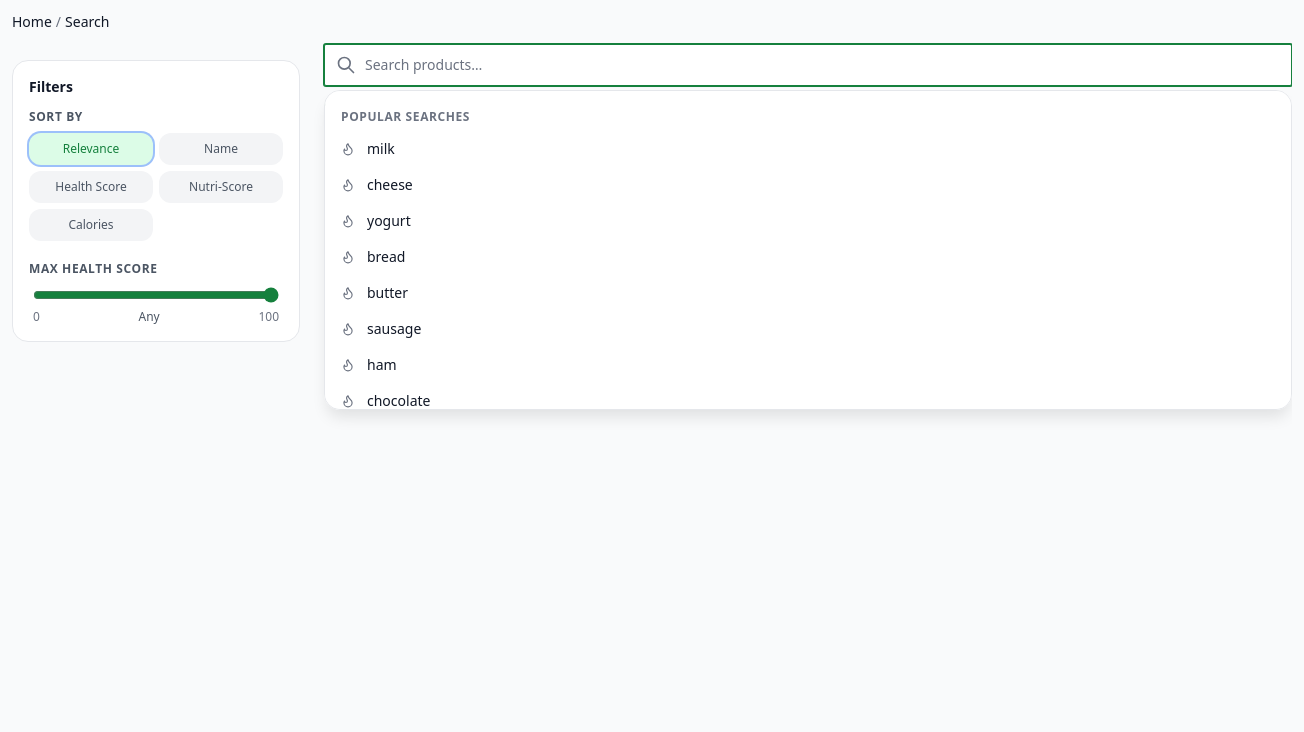
Test: SearchPage › renders pagination when multiple pages
Type "test" into the dropdown with placeholder "Search products…" at (808, 65), box [324,44,1292,86]
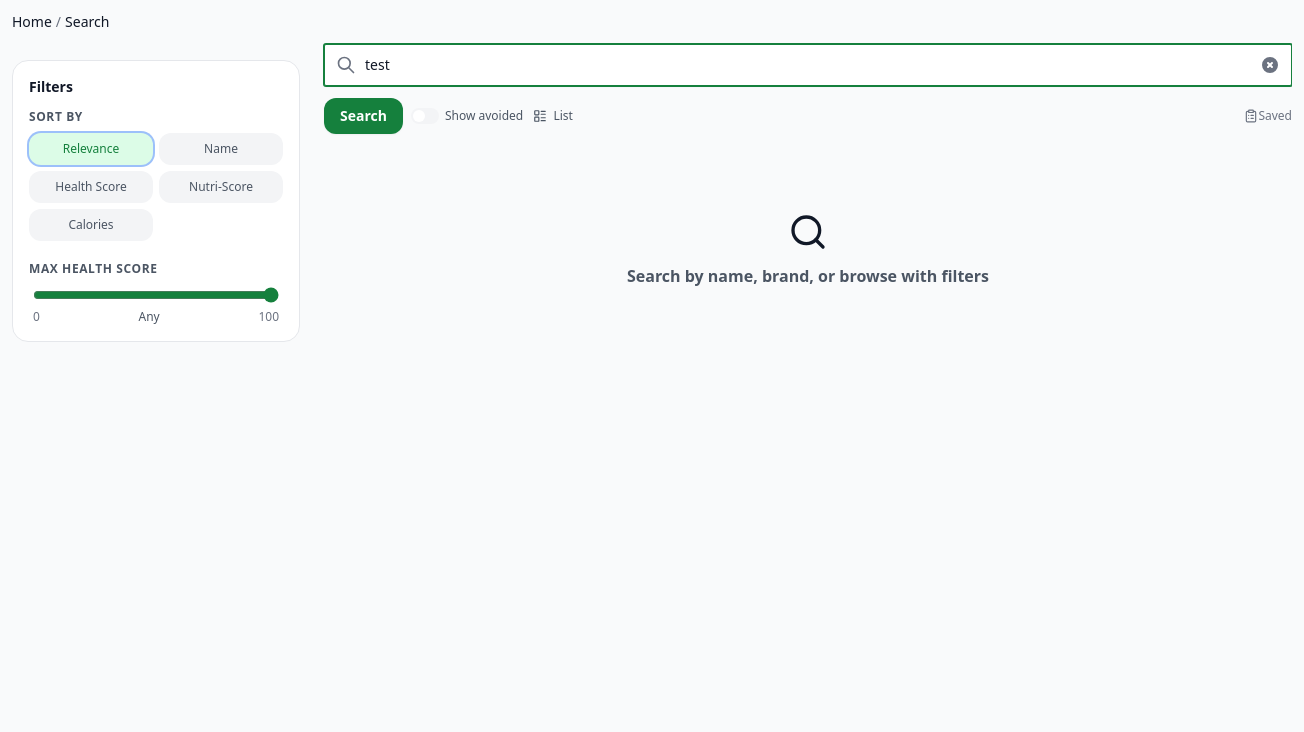
Click the button "Search" at (363, 116), box [324,98,403,134]
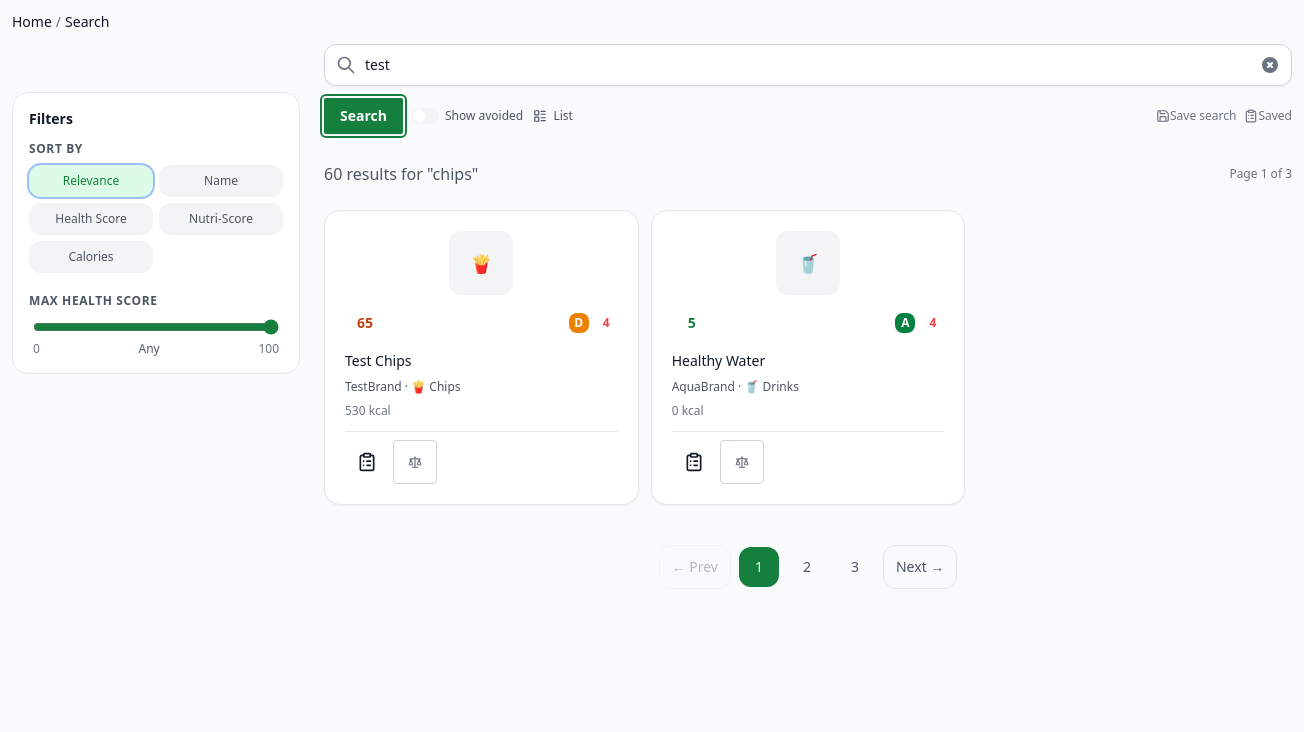
Expected: the text "Page 1 of 3" is shown, [1229,166,1292,182]
Expected: the button "Next →" is enabled, [883,545,957,589]
Expected: the button "← Prev" is disabled, [659,545,731,589]
